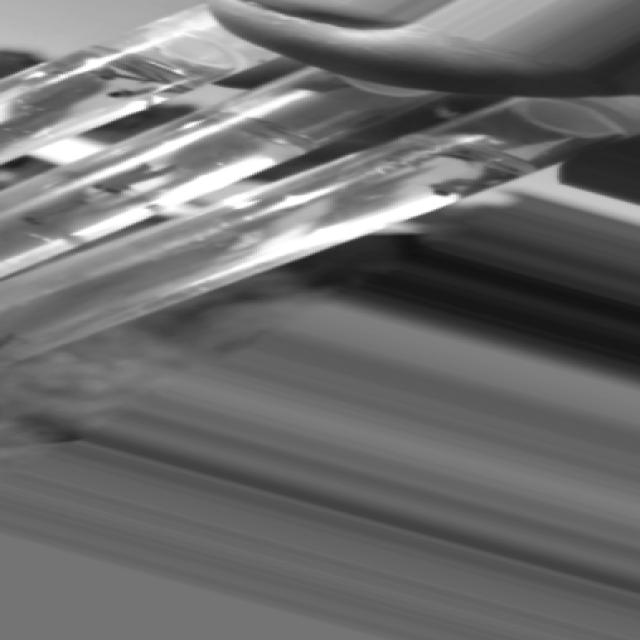larvas: (100, 159, 183, 199), (85, 162, 150, 192), (436, 176, 506, 196), (27, 200, 80, 223), (95, 68, 160, 86), (113, 84, 175, 102)
